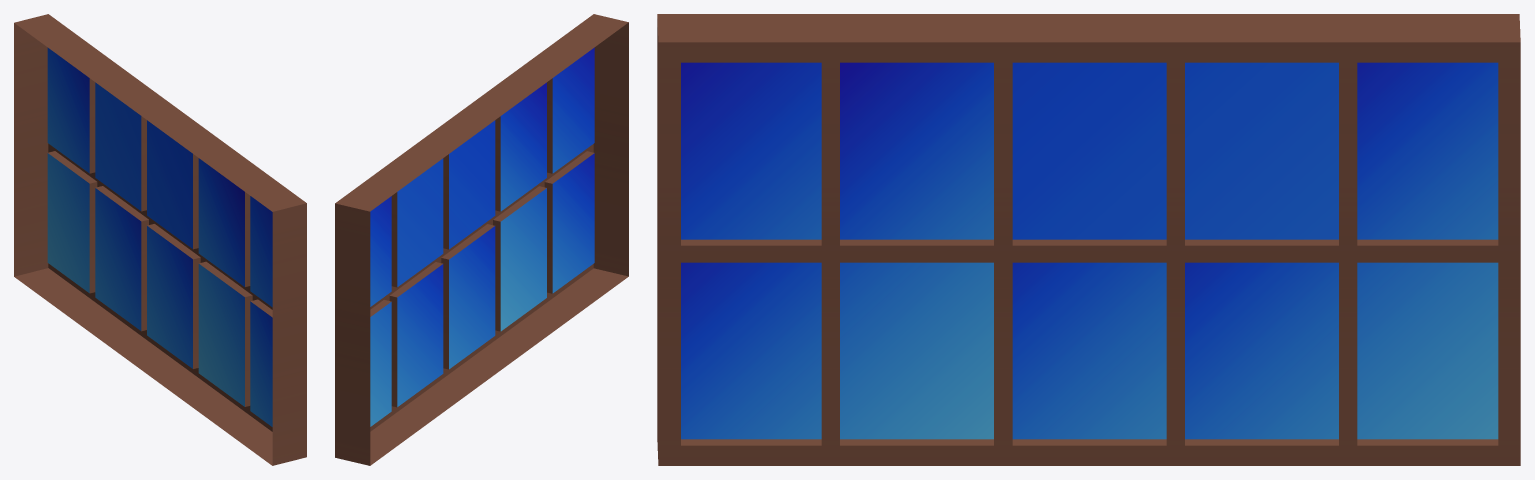
File: BuildingWindows.fbx
3 views of the same model, side by side, from view 1: azimuth 30°, elevation 25°; view 2: azimuth 150°, elevation 25°; view 3: azimuth 270°, elevation 25° (orthographic). The views are drawn at different scales.
Parts seen in each view (by area): view 1: Widows; view 2: Widows; view 3: Widows.
Boxes of the visible parts, bbox=[...] form: Widows: bbox=[14, 14, 306, 465]; Widows: bbox=[335, 14, 628, 465]; Widows: bbox=[657, 14, 1520, 465].
Bounding box in the file's own units: 15.8 × 110 × 204.
